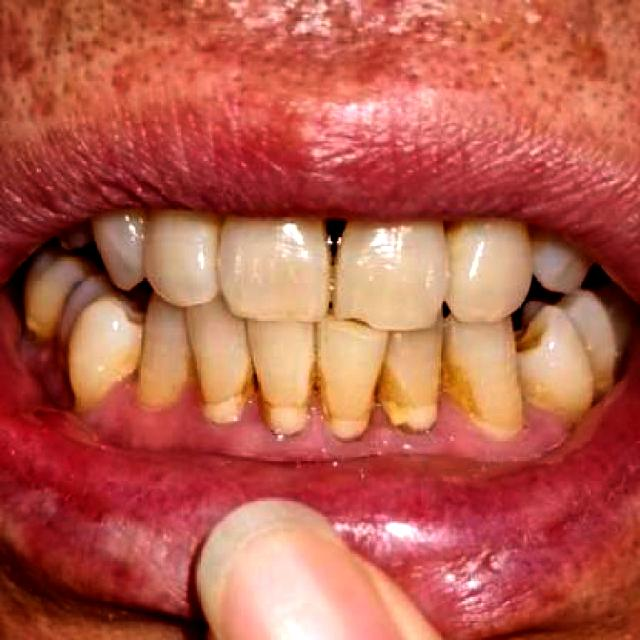Plaque: (138, 379, 512, 461)
